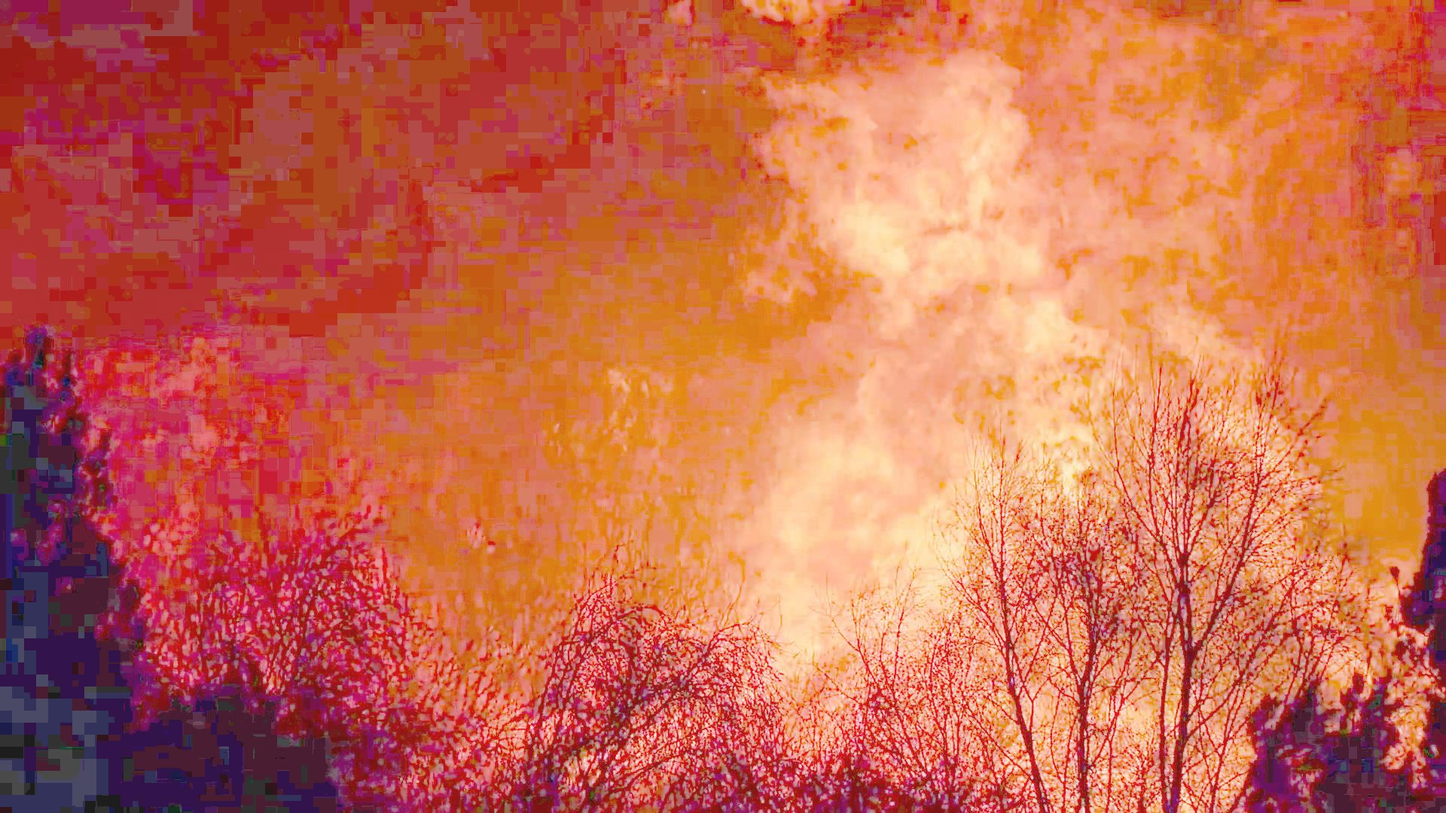fire: (769, 0, 1446, 315), (737, 14, 1130, 435), (738, 268, 1004, 655)
